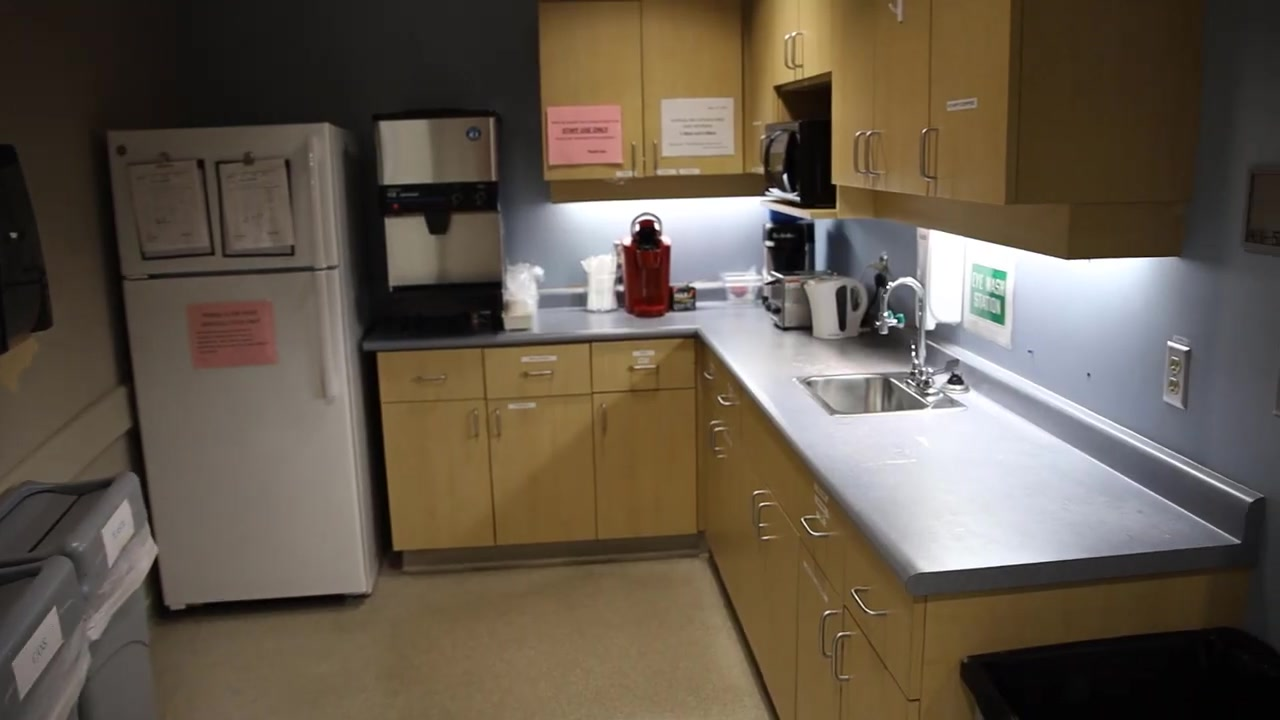cabinet: (535, 1, 1204, 202)
counter: (362, 299, 1261, 720)
countertop: (690, 300, 1254, 599), (361, 300, 690, 353)
dispenser: (912, 233, 971, 322)
faucet: (876, 277, 930, 392)
handle: (298, 135, 335, 264), (304, 271, 341, 399), (831, 627, 856, 681), (819, 608, 839, 667), (756, 495, 779, 545), (851, 586, 888, 616), (919, 127, 939, 182), (797, 512, 838, 538), (750, 488, 769, 534), (864, 131, 883, 176), (853, 130, 868, 176), (710, 424, 729, 460), (707, 418, 723, 457), (791, 32, 806, 69), (783, 34, 795, 70), (491, 408, 503, 439), (716, 393, 739, 408), (649, 140, 660, 169), (471, 409, 481, 439), (599, 405, 608, 438), (412, 374, 449, 382), (629, 142, 637, 171), (522, 370, 555, 377), (700, 370, 715, 381), (628, 366, 660, 370)
sink: (798, 365, 964, 416)
waste_bin: (1, 467, 162, 720), (1, 553, 92, 720)
